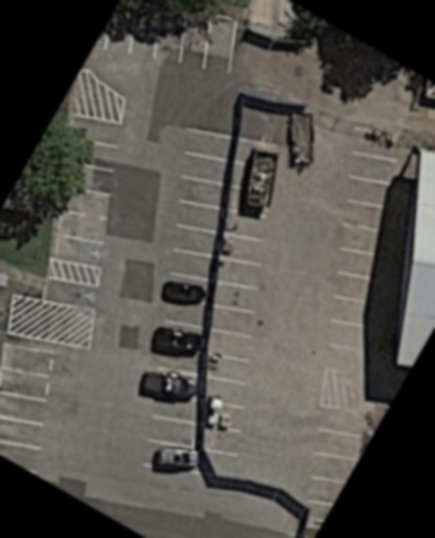parkingspot: (142, 124, 236, 475), (325, 125, 406, 356), (205, 206, 269, 410), (52, 112, 125, 268), (102, 1, 239, 76), (0, 337, 62, 478), (304, 403, 371, 507), (42, 275, 102, 313), (199, 422, 246, 459)
